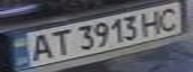1: (109, 16, 127, 44)
3: (72, 22, 96, 52), (121, 12, 142, 41)
9: (90, 20, 112, 48)
A: (24, 32, 57, 62)
C: (154, 4, 184, 33)
H: (136, 8, 166, 36)
T: (45, 27, 72, 57)
